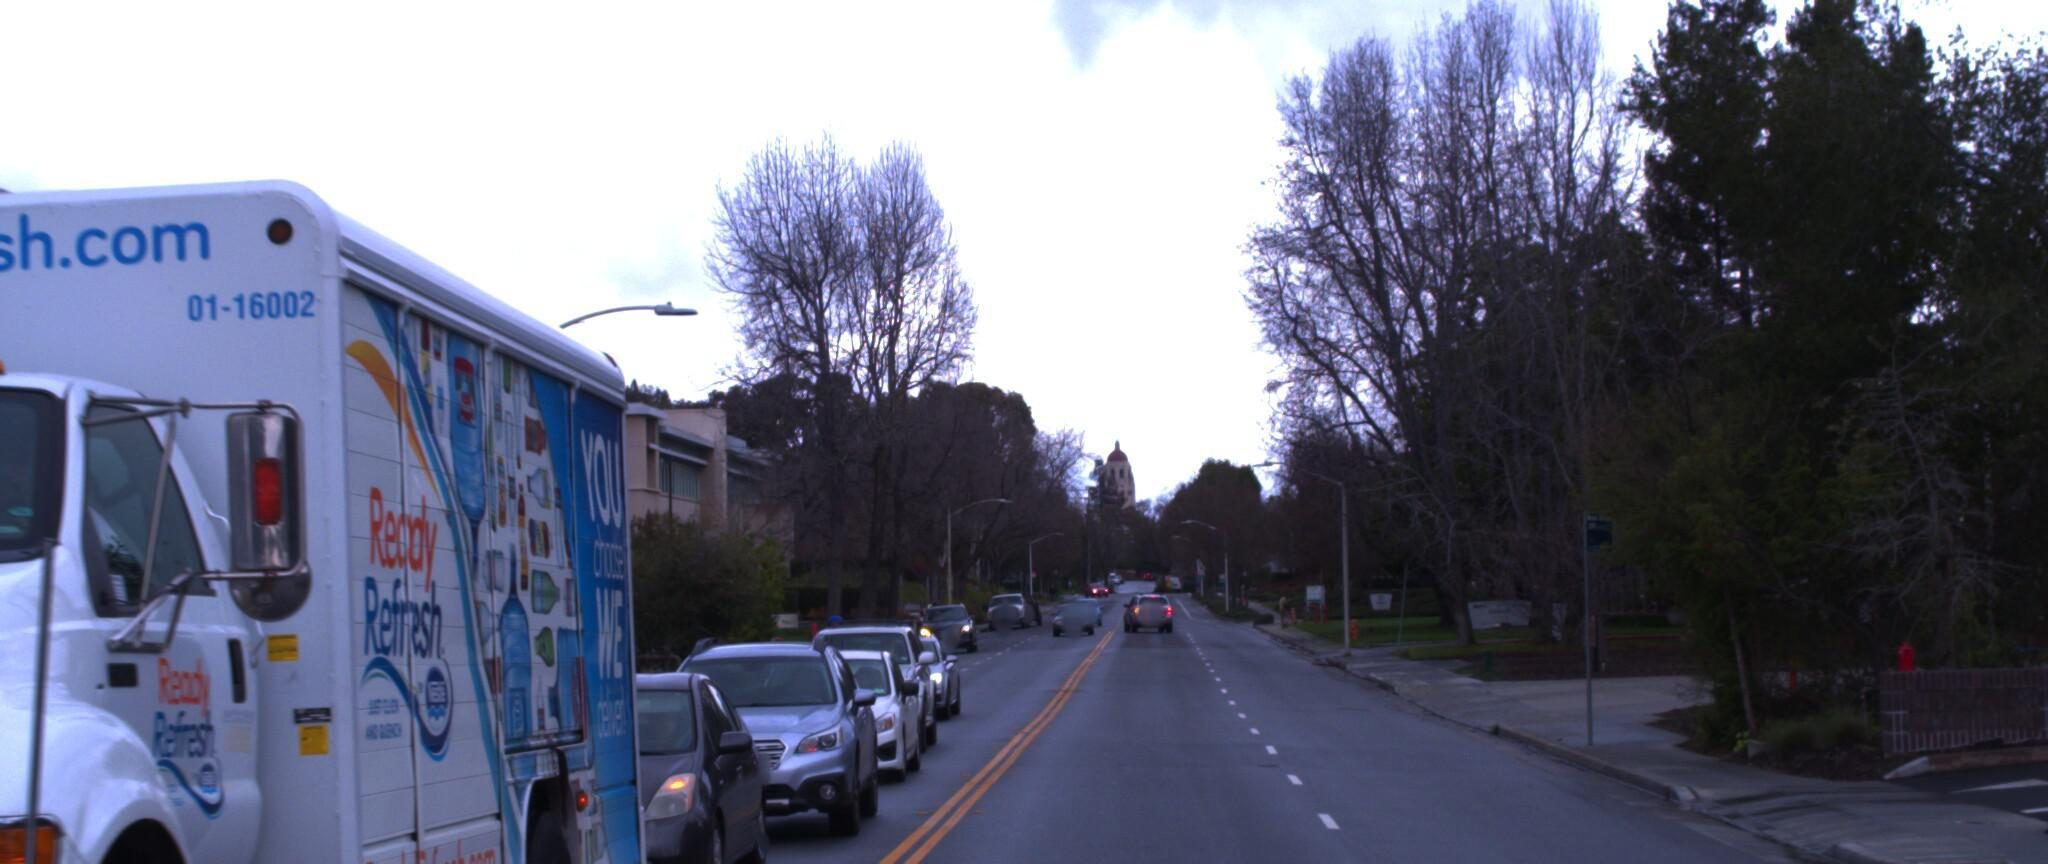car: (394, 640, 773, 864), (606, 607, 891, 843), (721, 624, 927, 780), (765, 599, 950, 745)
truck: (0, 0, 699, 864)
